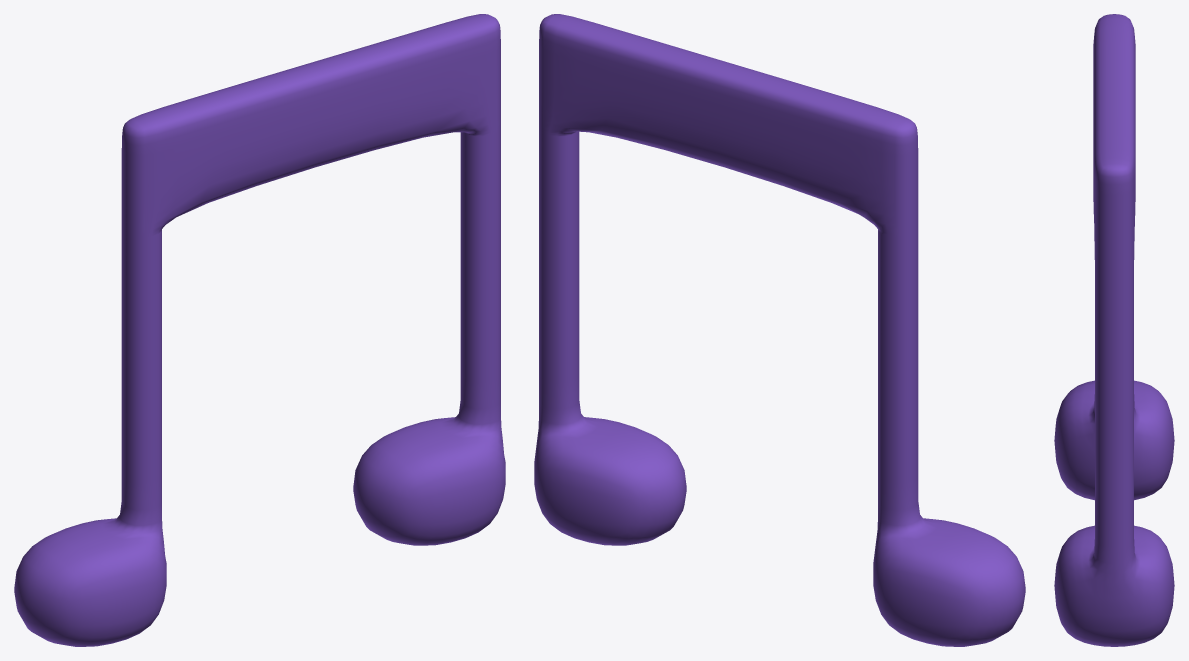
Rendered from musical_note.glb.
The picture shows the model from 3 angles, left to right: view 1: azimuth 30°, elevation 25°; view 2: azimuth 150°, elevation 25°; view 3: azimuth 270°, elevation 25°; orthographic projection.
Parts seen in each view (by area): view 1: Cube.846; view 2: Cube.846; view 3: Cube.846.
Part boxes in pixels (bbox=[...]): Cube.846: bbox=[14, 14, 505, 646]; Cube.846: bbox=[534, 14, 1025, 646]; Cube.846: bbox=[1054, 14, 1174, 646].
Size of the model in its own units: 2.13 by 2.22 by 0.471.
1 material, 1 textured.
